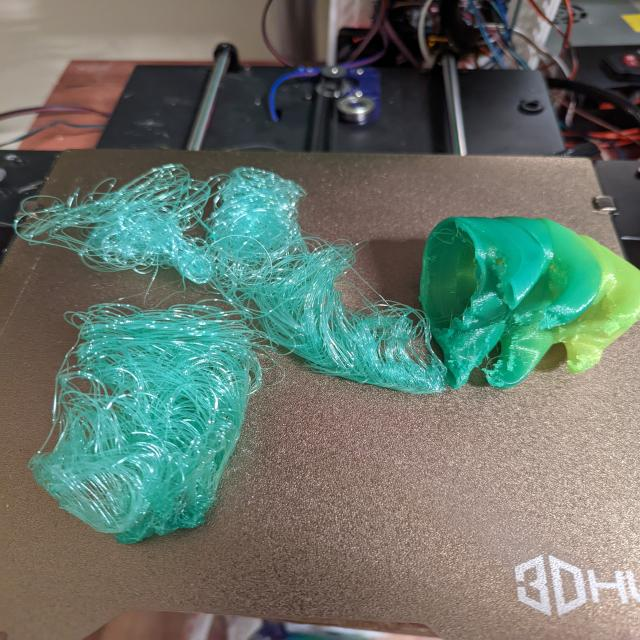spaghetti: (14, 163, 457, 397), (29, 304, 263, 547)
